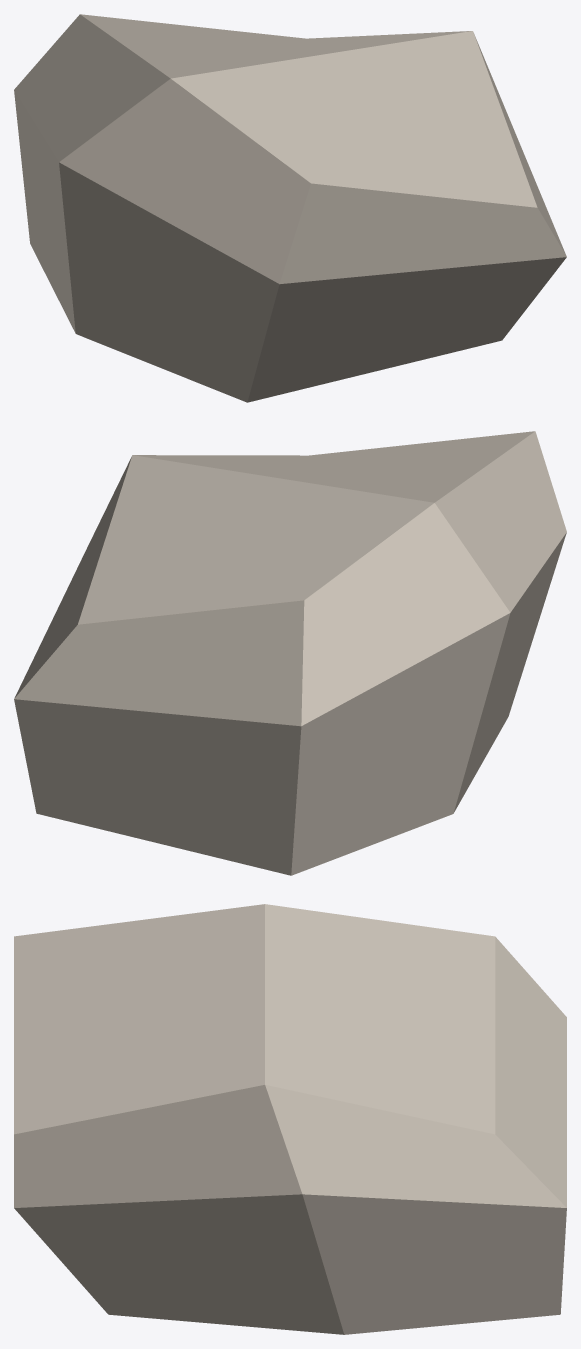
File: roc_b.gltf
3 renders of one model, top to bottom at view 1: azimuth 30°, elevation 25°; view 2: azimuth 150°, elevation 25°; view 3: azimuth 270°, elevation 25°, orthographic. The views are drawn at different scales.
Parts seen in each view (by area): view 1: roc_b001; view 2: roc_b001; view 3: roc_b001.
Boxes of the visible parts, x1,y1,x2,y2 form: roc_b001: [14, 14, 566, 402]; roc_b001: [14, 431, 566, 875]; roc_b001: [14, 904, 566, 1334].
Size of the model in its own units: 0.1995 by 0.1208 by 0.2158.
Materials: 1 (1 with a texture image).
